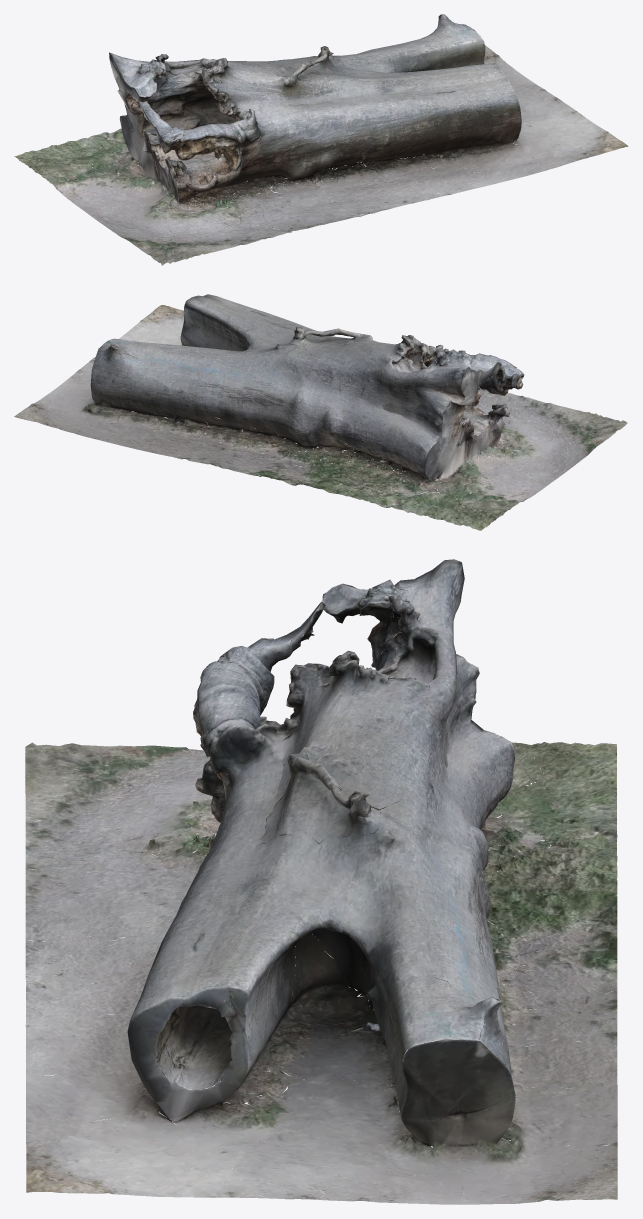
The model's file is arbo_a_large_lying_dead_tree_trun.glb.
3 views of the same model, one above another, from view 1: azimuth 30°, elevation 25°; view 2: azimuth 150°, elevation 25°; view 3: azimuth 270°, elevation 25° (orthographic). The views are drawn at different scales.
Visible parts, largest first — view 1: big_strom_big_strom_0; view 2: big_strom_big_strom_0; view 3: big_strom_big_strom_0.
Boxes of the visible parts, x1,y1,x2,y2 form: big_strom_big_strom_0: (14, 14, 628, 265); big_strom_big_strom_0: (14, 294, 627, 530); big_strom_big_strom_0: (25, 559, 617, 1204).
Size of the model in its own units: 8 by 2.02 by 4.39.
Materials: 1 (1 with a texture image).
